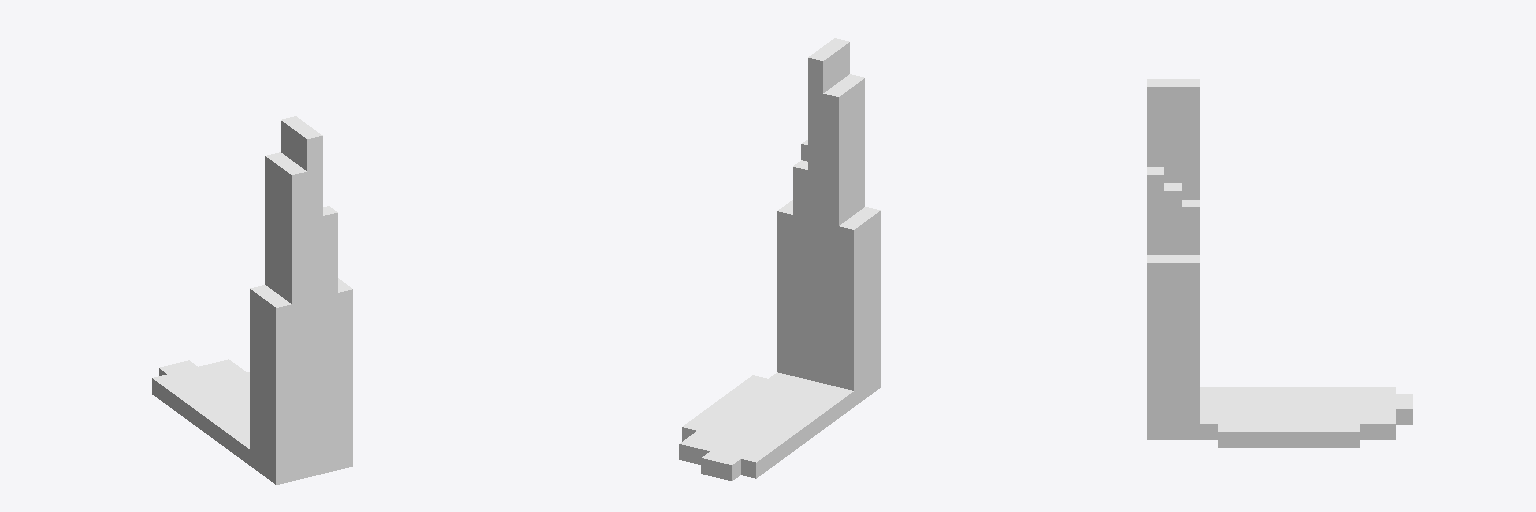
Rendered from pie_izq_pez.obj.
3 renders of one model, left to right at view 1: azimuth 30°, elevation 25°; view 2: azimuth 150°, elevation 25°; view 3: azimuth 270°, elevation 25°, orthographic.
Parts seen in each view (by area): view 1: pie_izq_pez; view 2: pie_izq_pez; view 3: pie_izq_pez.
Boxes of the visible parts, x1=… form: pie_izq_pez: x1=152, y1=116, x2=352, y2=484; pie_izq_pez: x1=679, y1=38, x2=880, y2=480; pie_izq_pez: x1=1147, y1=79, x2=1412, y2=447.
Bounding box in the file's own units: 0.6 × 2.1 × 1.5.